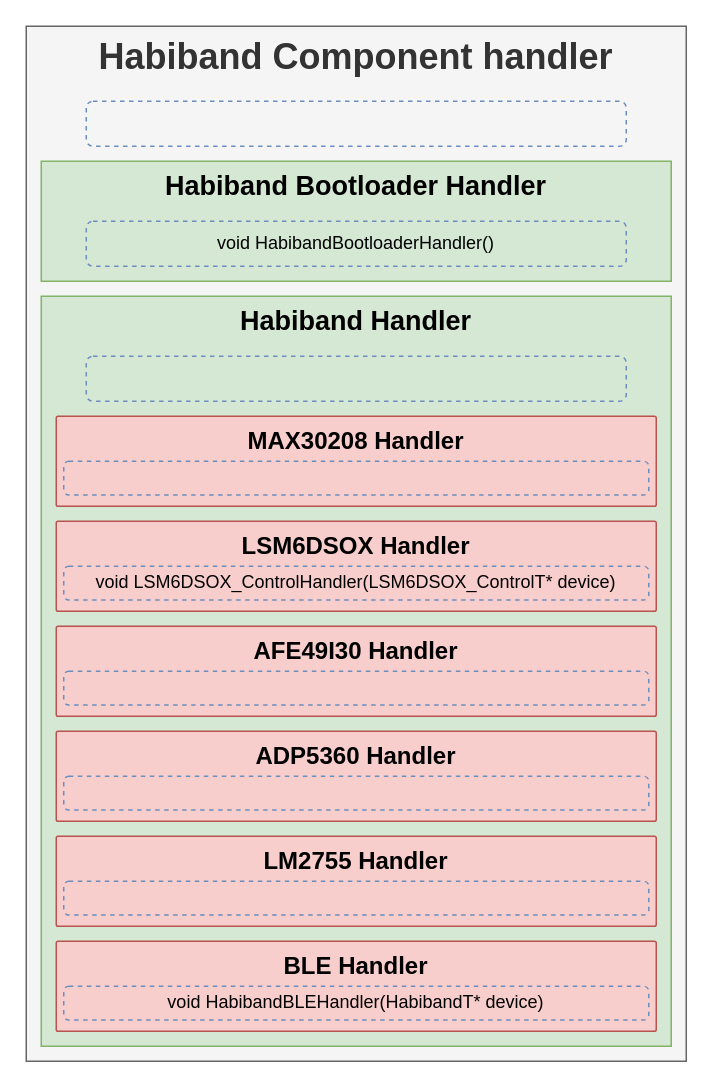
The diagram is 713 pixels wide and 1088 high, and some of its shapes have lost their labels. Each missing label, with the centre of its shape:
"void ADP5360_ControlHandler(ADP5360_ControlT* device)" goes at point 355,792.
"void AFE49I30_ControlHandler(AFE49I30_ControlT* device)" goes at point 355,687.
"void HabibandComponentHandler()" goes at point 355,123.
"void HabibandControlHandler(HabibandT* device)" goes at point 355,378.
"void LM2755_ControlHandler(LM2755_ControlT* device)" goes at point 355,897.
"void MAX30208_ControlHandler(MAX30208_ControlT* device)" goes at point 355,477.
